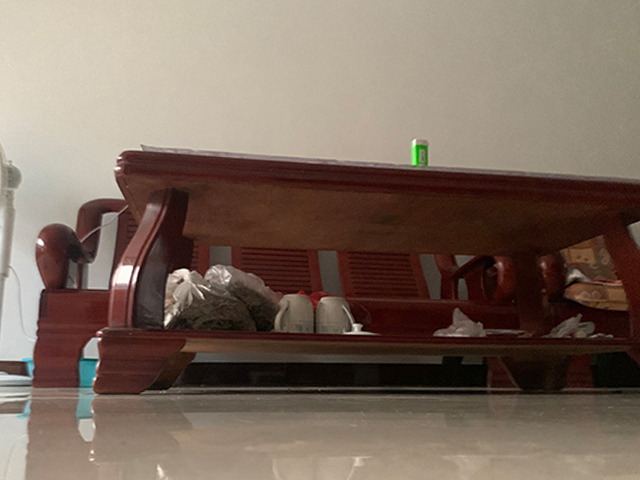sofa: (30, 198, 135, 389)
table: (90, 150, 640, 397)
